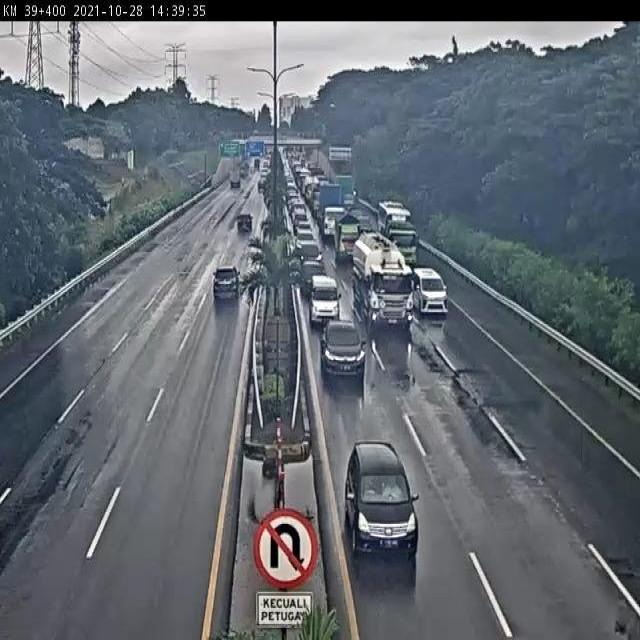big bus: (376, 200, 420, 267)
big truck: (345, 228, 416, 329)
car: (343, 442, 426, 566), (316, 321, 374, 387), (412, 267, 449, 321), (305, 272, 339, 324), (211, 264, 244, 304), (295, 243, 322, 269)
